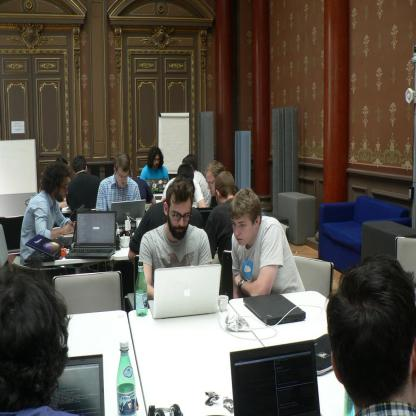board: (229, 340, 321, 416), (140, 262, 225, 326), (48, 354, 105, 416), (65, 211, 117, 259), (242, 293, 306, 325), (117, 339, 137, 416), (51, 205, 85, 250), (24, 235, 64, 262), (110, 200, 145, 230), (136, 261, 148, 318), (195, 206, 216, 229)
